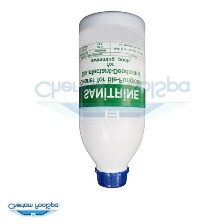cleaning_solution: (74, 9, 150, 190)
